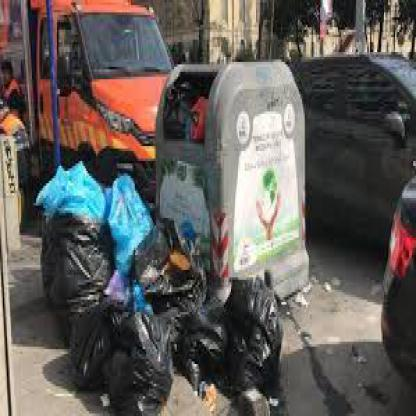Garbage: (36, 149, 205, 414), (81, 270, 294, 406), (99, 307, 178, 414), (48, 218, 106, 352), (228, 280, 281, 398), (39, 161, 106, 225), (108, 174, 152, 270)
